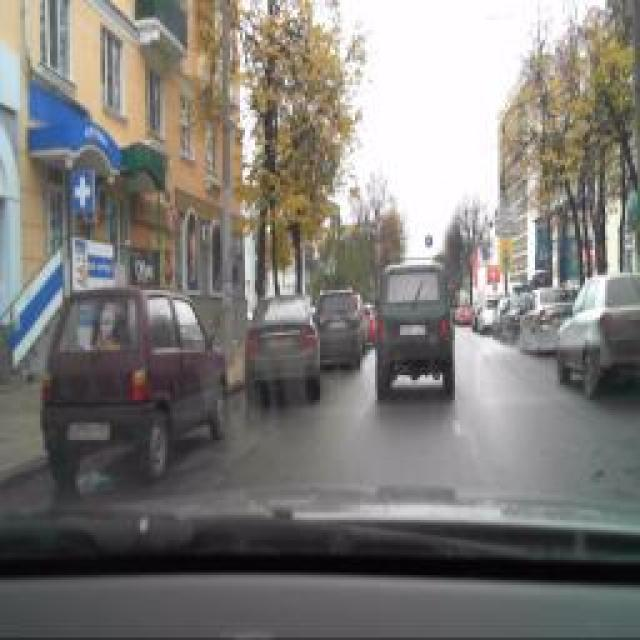sign: (425, 234, 433, 248)
